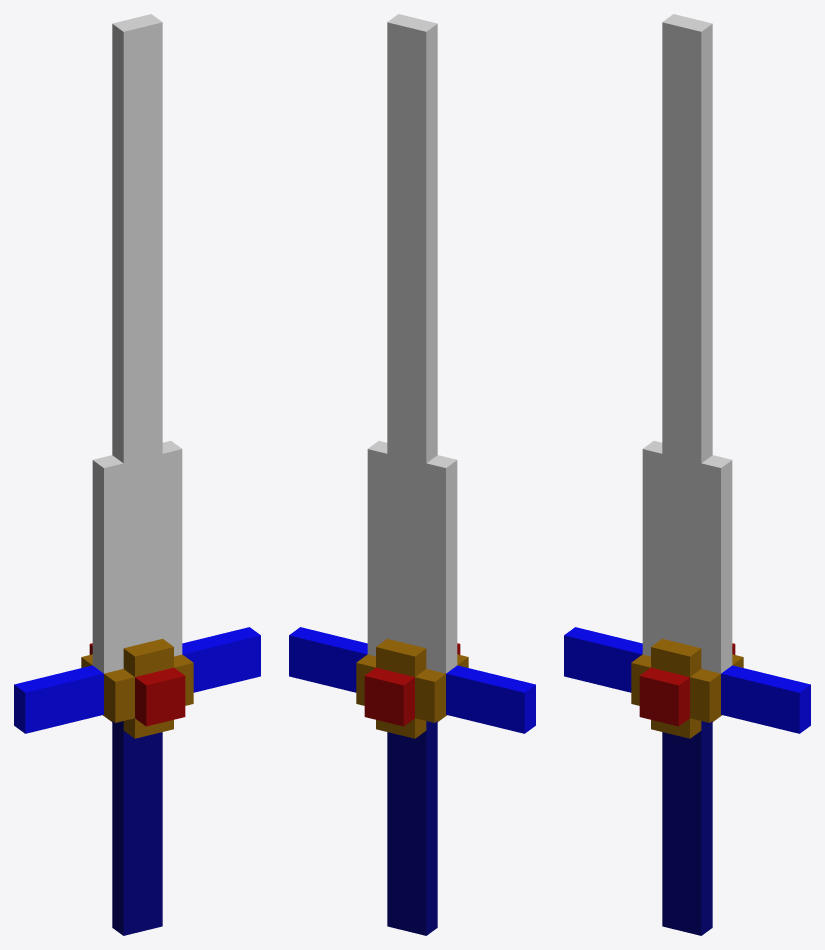
File: sword-simple-2.obj
3 views of the same model, side by side, from view 1: azimuth 30°, elevation 25°; view 2: azimuth 150°, elevation 25°; view 3: azimuth 330°, elevation 25° (orthographic).
Size of the model in its own units: 12 by 44 by 5.
Materials: 1 (1 with a texture image).
